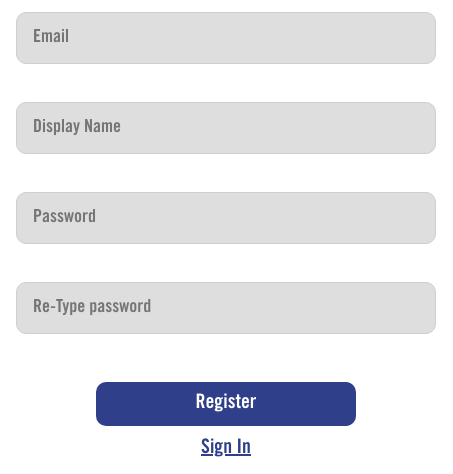
Scenario: shows error when display name is empty
The width and height of the screenshot is (453, 474).
Step 1. Type "test@test.com" into the field with placeholder "Email" → (226, 38), box x1=16 y1=12 x2=436 y2=64
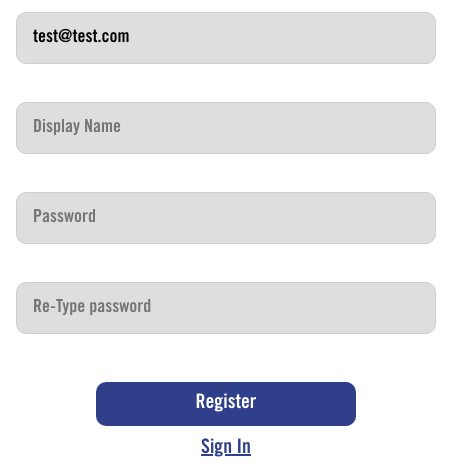
Step 2. Click the button "Register" → (226, 404), box x1=96 y1=382 x2=356 y2=426
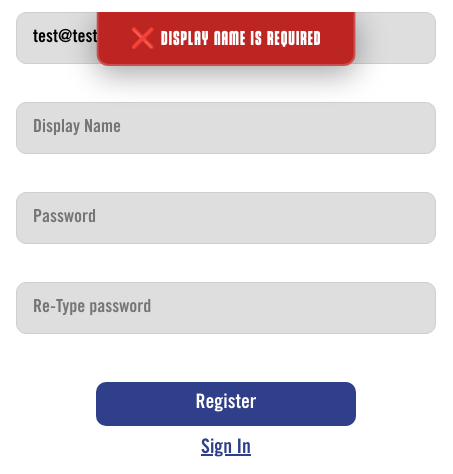
Expected: the text "❌ Display Name is required" is shown, x1=96 y1=12 x2=355 y2=66
